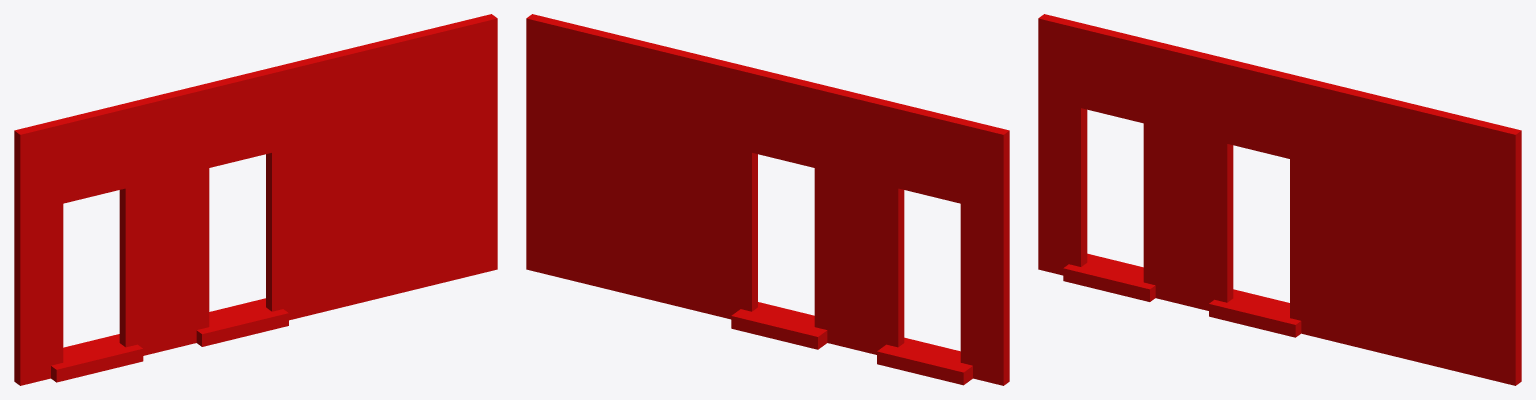
The model's file is VictorianColliders.fbx.
The picture shows the model from 3 angles, left to right: view 1: azimuth 30°, elevation 25°; view 2: azimuth 150°, elevation 25°; view 3: azimuth 330°, elevation 25°; orthographic projection.
Parts seen in each view (by area): view 1: WallBotEColliision; view 2: WallBotEColliision; view 3: WallBotEColliision.
Part boxes in pixels (bbox=[...]): WallBotEColliision: bbox=[14, 14, 497, 385]; WallBotEColliision: bbox=[526, 14, 1009, 385]; WallBotEColliision: bbox=[1038, 14, 1521, 385].
Size of what is drawn, in the model's own units: 602 by 303 by 45.94.
